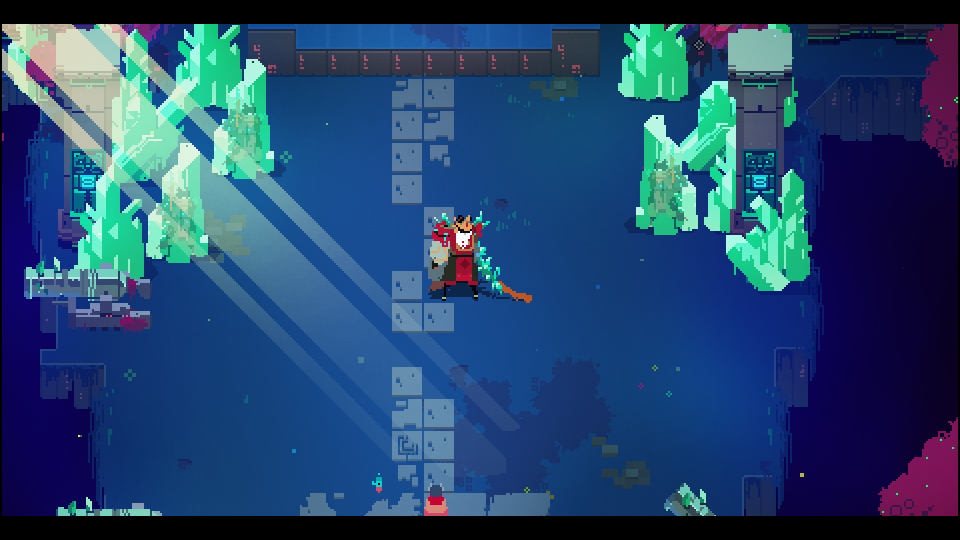hanged_man: (424, 209, 513, 308)
player: (424, 482, 448, 519)
